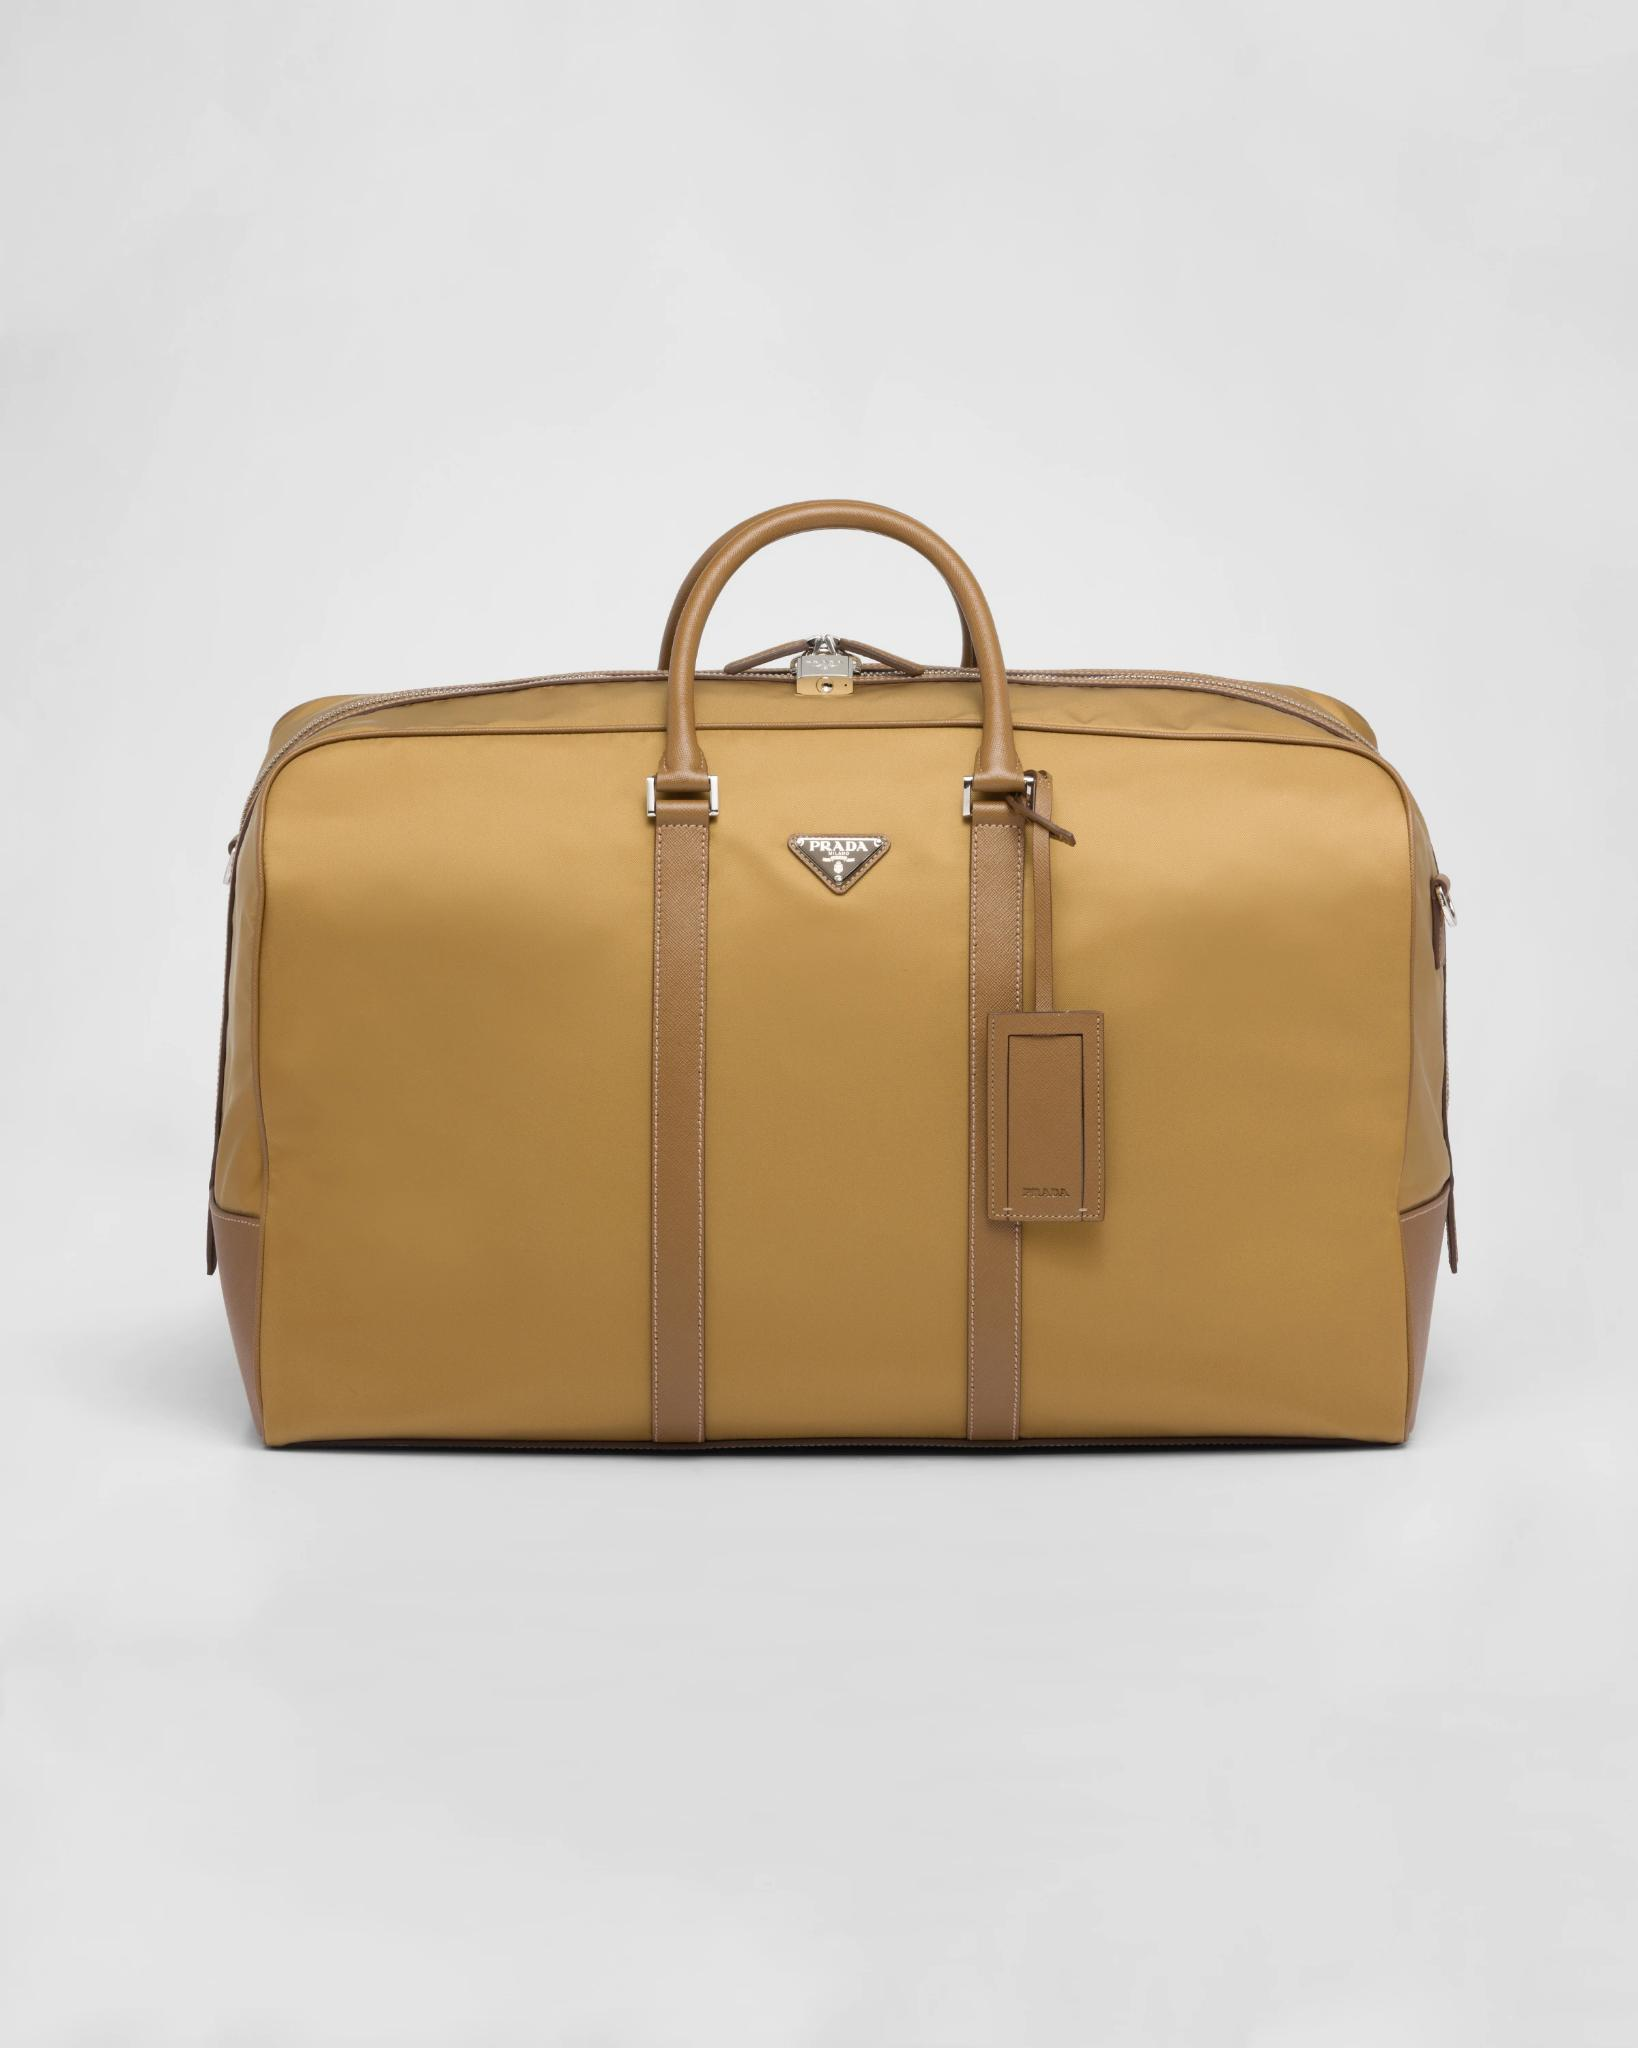PRADA: (797, 838, 883, 884)
